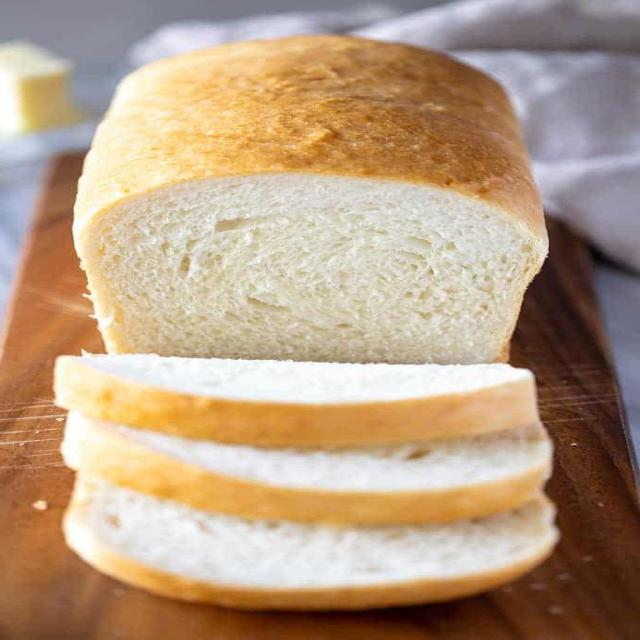Bread: (54, 28, 556, 383), (57, 354, 570, 616)
